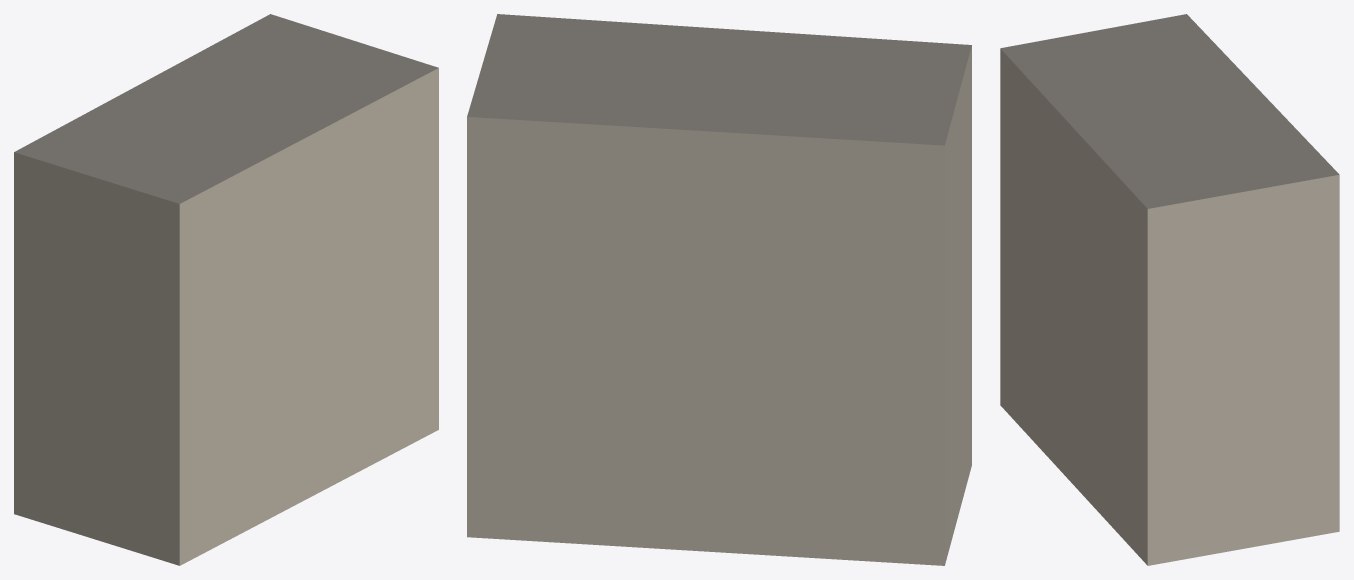
3 views of the same model, side by side, from view 1: azimuth 30°, elevation 25°; view 2: azimuth 150°, elevation 25°; view 3: azimuth 270°, elevation 25° (orthographic). The views are drawn at different scales.
Parts seen in each view (by area): view 1: HP-w505653347; view 2: HP-w505653347; view 3: HP-w505653347.
Part boxes in pixels (x1,y1,x2,y2): HP-w505653347: [14, 14, 438, 565]; HP-w505653347: [467, 14, 971, 565]; HP-w505653347: [1000, 14, 1339, 565].
Bounding box in the file's own units: 21.09 × 18 × 15.51.
